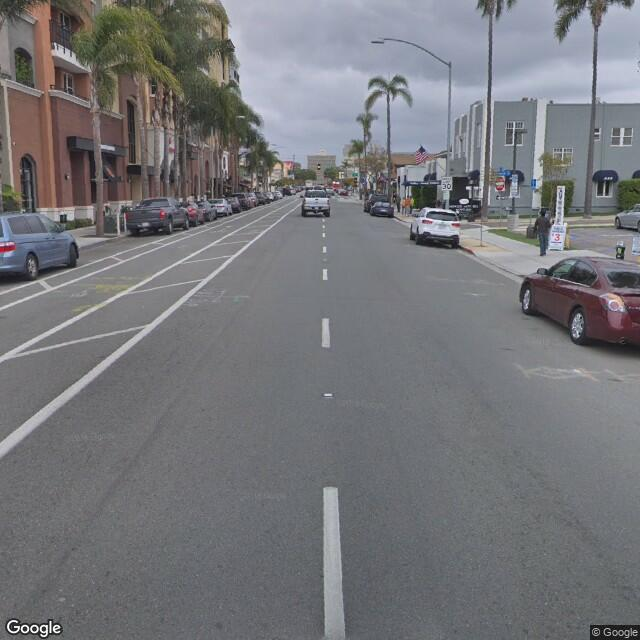road line: (304, 302, 353, 637)
window: (611, 126, 635, 150)
